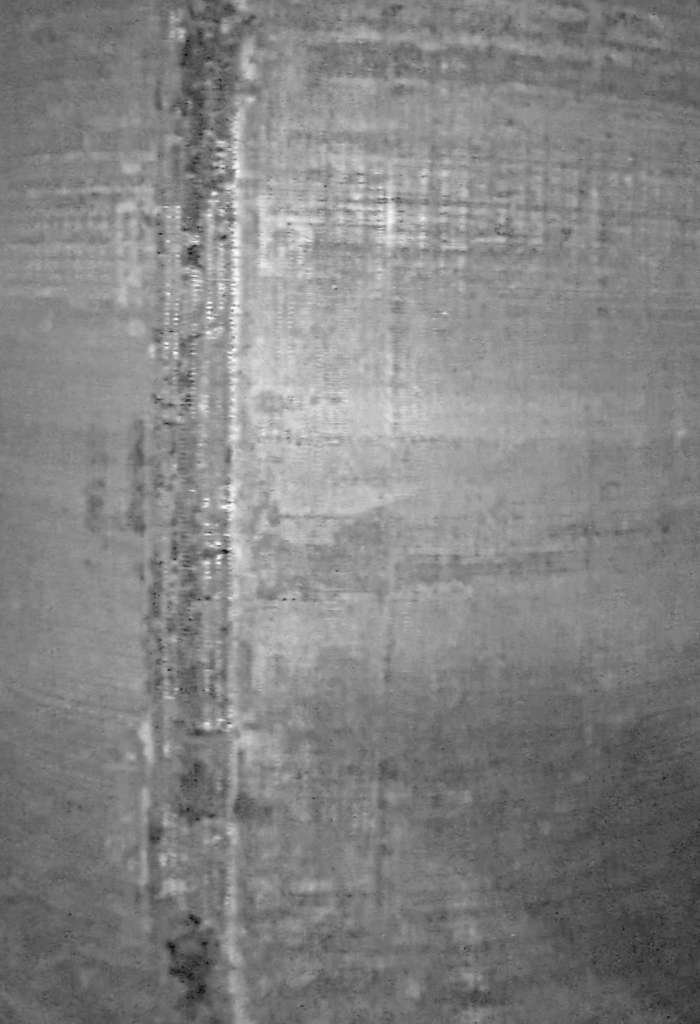splice: (144, 1, 266, 1022)
